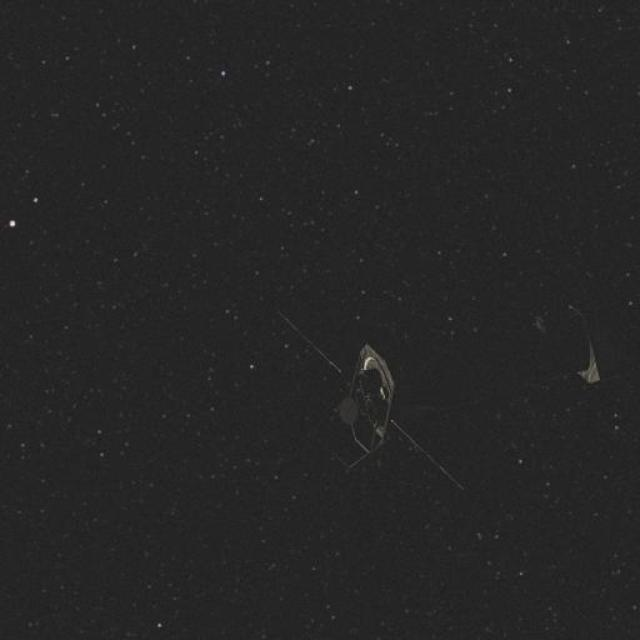xmm_newton: (193, 278, 496, 486)
